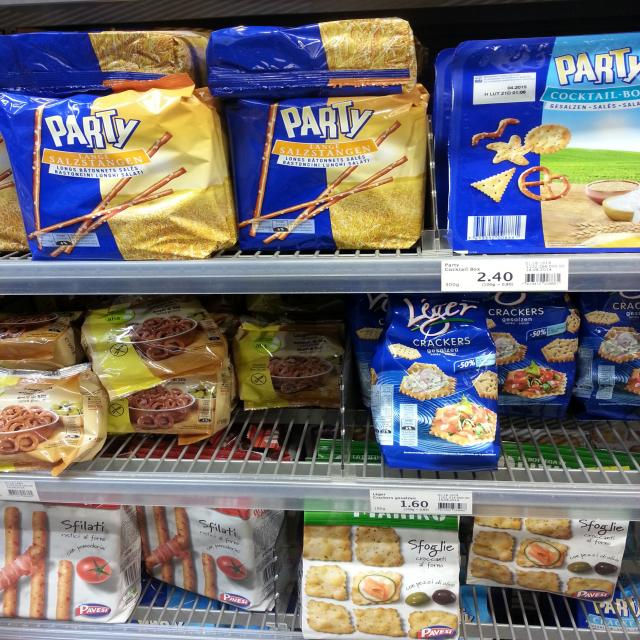Snacks: (444, 34, 640, 255), (0, 85, 237, 264), (235, 84, 428, 252), (367, 292, 501, 472), (84, 298, 236, 435), (298, 512, 460, 640), (0, 500, 141, 623), (143, 508, 287, 612), (208, 17, 417, 87), (468, 516, 628, 604), (480, 288, 579, 409), (0, 363, 108, 472), (2, 32, 206, 86), (233, 320, 349, 412), (576, 291, 640, 418)
